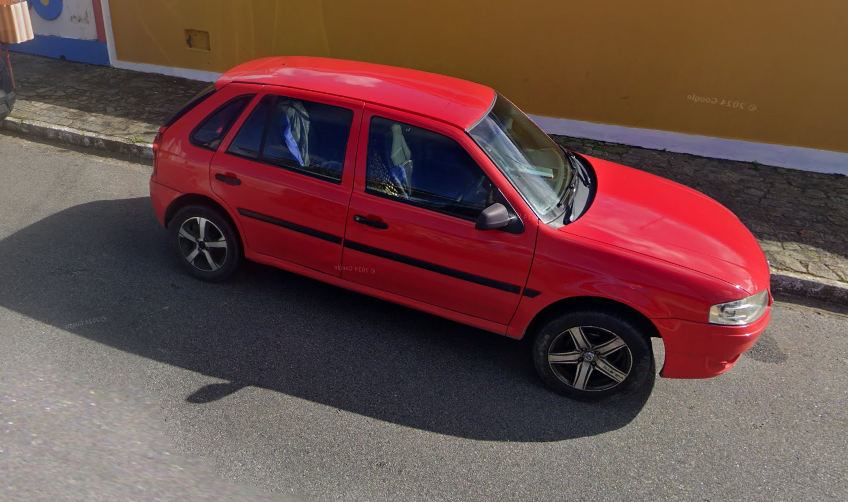car: (147, 54, 777, 408)
